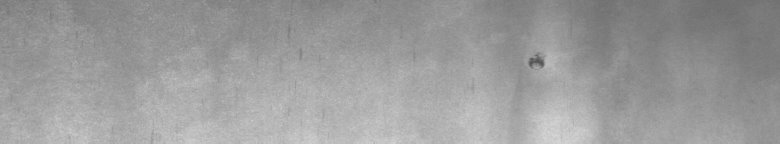fi: (524, 48, 552, 72)
